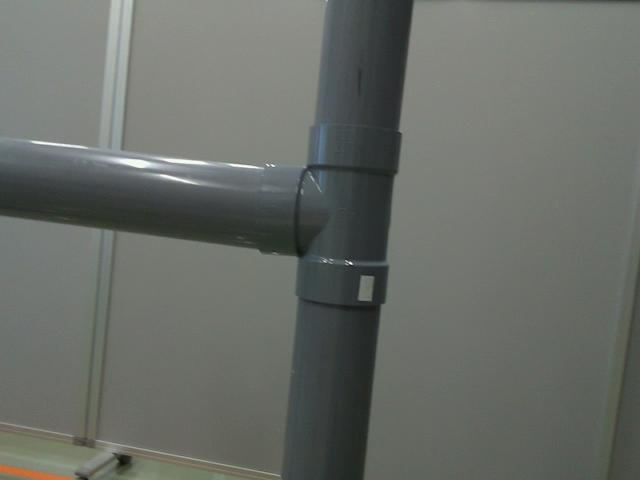junction: (260, 123, 410, 308)
